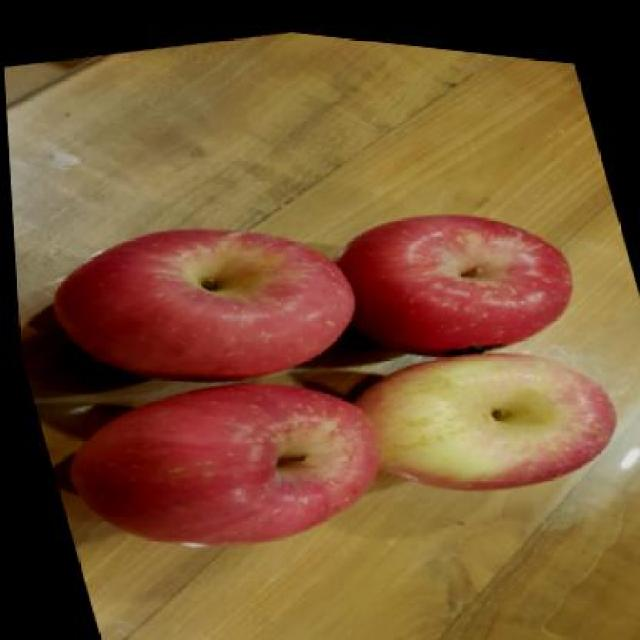Fresh Apple: (36, 222, 366, 386), (67, 380, 374, 546), (325, 200, 571, 354), (357, 357, 626, 482)
